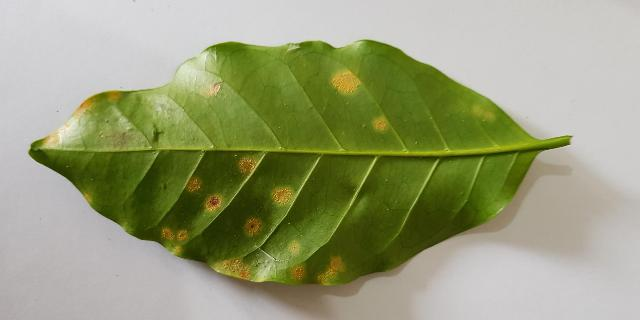miner: (212, 257, 256, 281), (318, 258, 343, 286), (72, 93, 98, 119), (332, 70, 361, 93), (272, 187, 296, 205), (238, 155, 256, 177), (203, 193, 222, 212), (243, 217, 261, 236), (162, 228, 187, 241), (287, 262, 304, 281), (185, 176, 202, 192), (42, 131, 60, 146), (288, 242, 301, 256), (373, 118, 387, 131), (108, 90, 121, 100), (210, 83, 220, 96), (82, 193, 91, 204), (174, 246, 181, 252)
